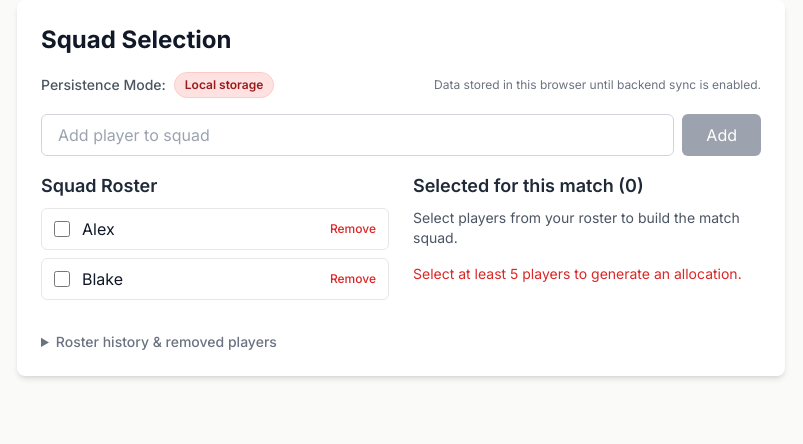
Test: PlayerInput › removes players from roster and deselects them
This screenshot has width=803, height=444.
Click the checkbox labelled "Alex" at (62, 229), box [54,221,70,237]
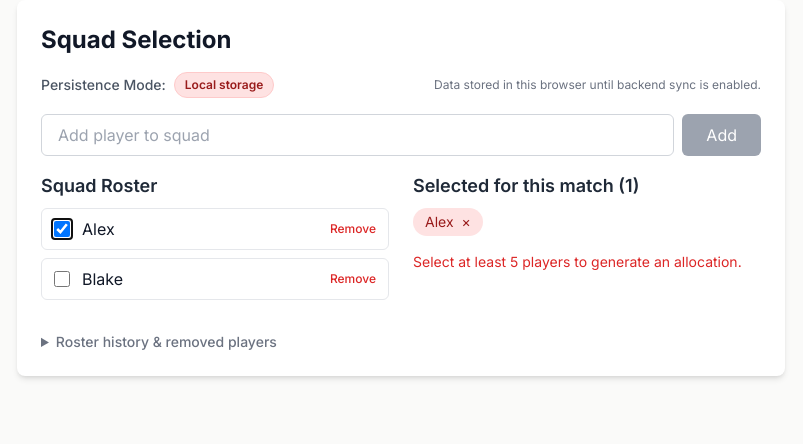
Expected: the list item "Alex" is shown, [82,219,115,239]
Click the 1st button "Remove" at (353, 229), box [330,221,376,237]
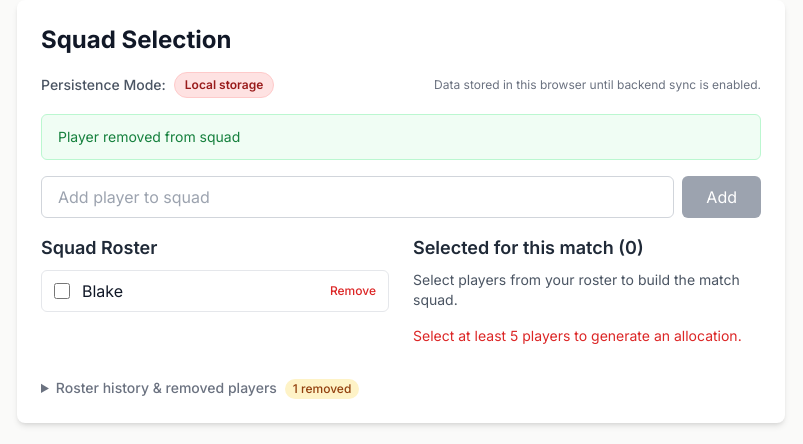
Expected: the text "Player removed from squad" is shown, [41,114,761,160]
